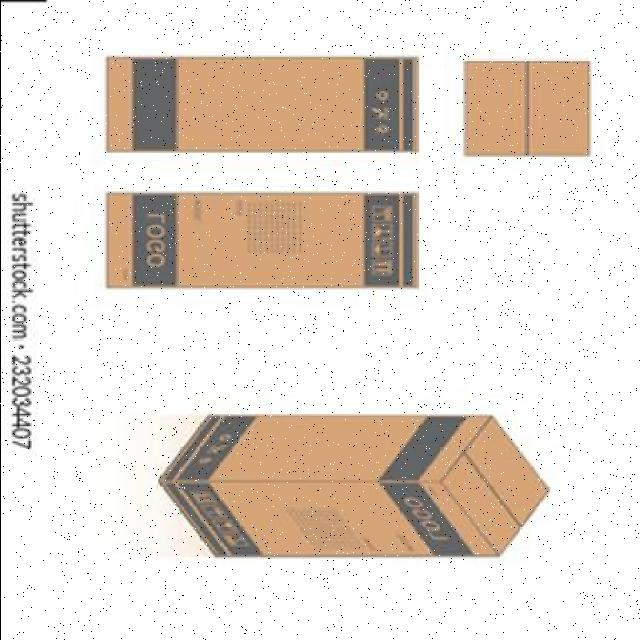normal: (157, 405, 552, 563), (94, 54, 423, 160), (94, 190, 423, 296), (448, 54, 597, 169)
